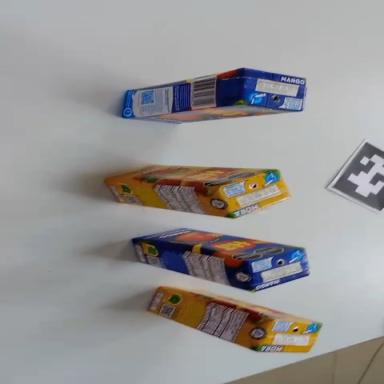HIT-MANGO: (127, 220, 313, 300), (118, 62, 309, 129)
HIT-MORA: (144, 277, 321, 366), (104, 163, 291, 220)
cara_F: (131, 219, 303, 271), (158, 279, 321, 333), (129, 98, 299, 129), (106, 162, 276, 191)
